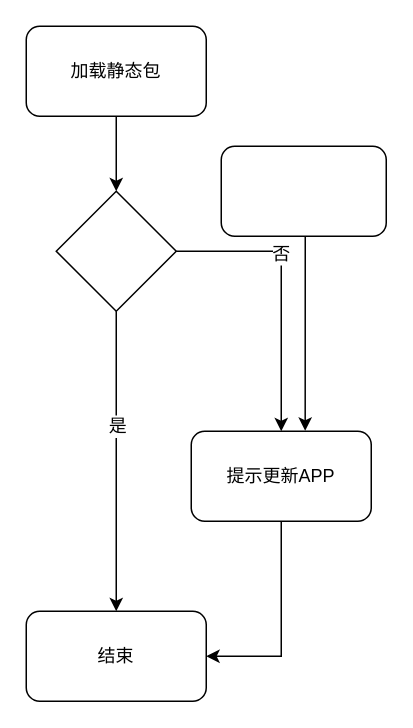
Image size: 413x728. Some labels were removed from this diagram. Here are the shapes that lost their labels. From the top down, the centre of each, then its label:
At point 303,190: "使用过程中，插件不支持新的能力".
At point 115,250: "检测Native是否支持所需的插件".
